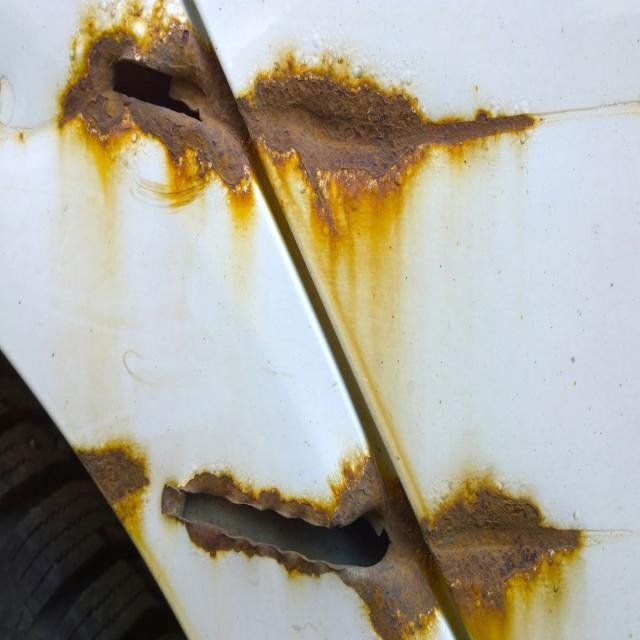corrosion: (162, 464, 437, 640), (61, 4, 252, 193), (245, 71, 535, 180), (422, 491, 582, 586), (79, 450, 150, 505)
